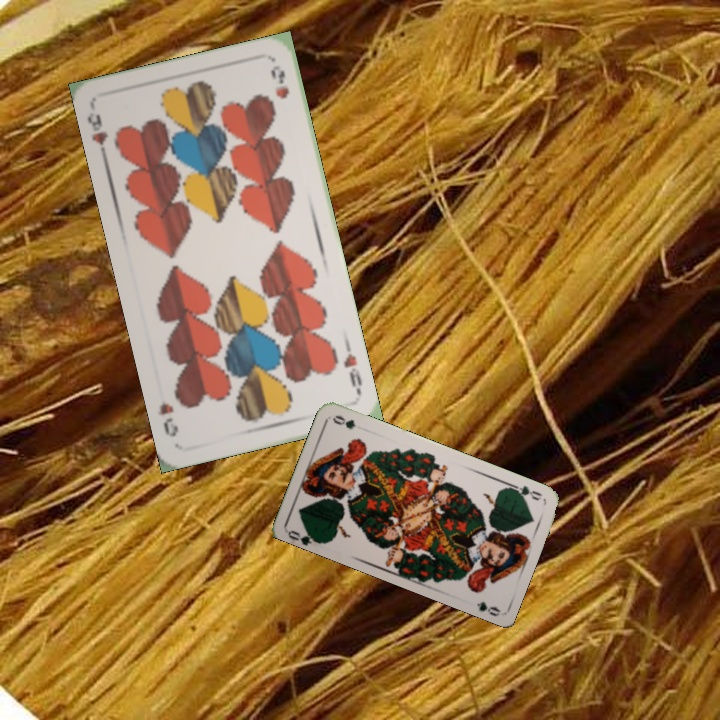GO: (505, 480, 545, 503), (285, 524, 325, 546)
H9: (339, 340, 365, 398), (83, 109, 111, 162)
